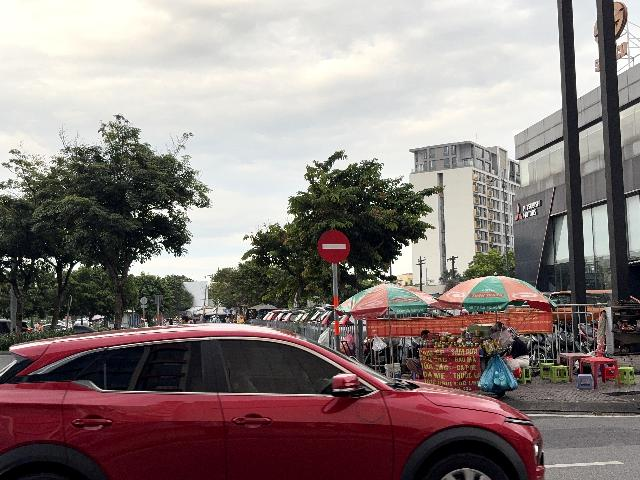cam-di-nguoc-chieu: (317, 230, 350, 264)
